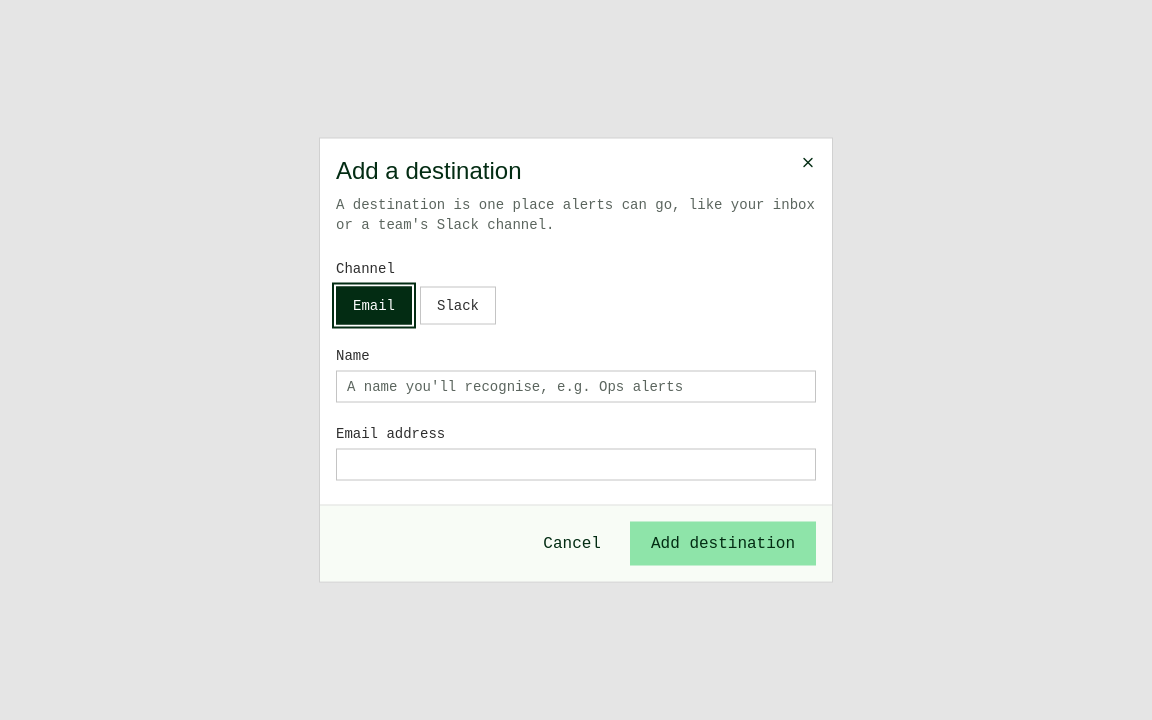
Test: DestinationDialog › shows server issues that belong to no visible field as a form message
Step 1. Type "Inbox" into the field labelled "Name" → (576, 386), box [336,370,816,402]
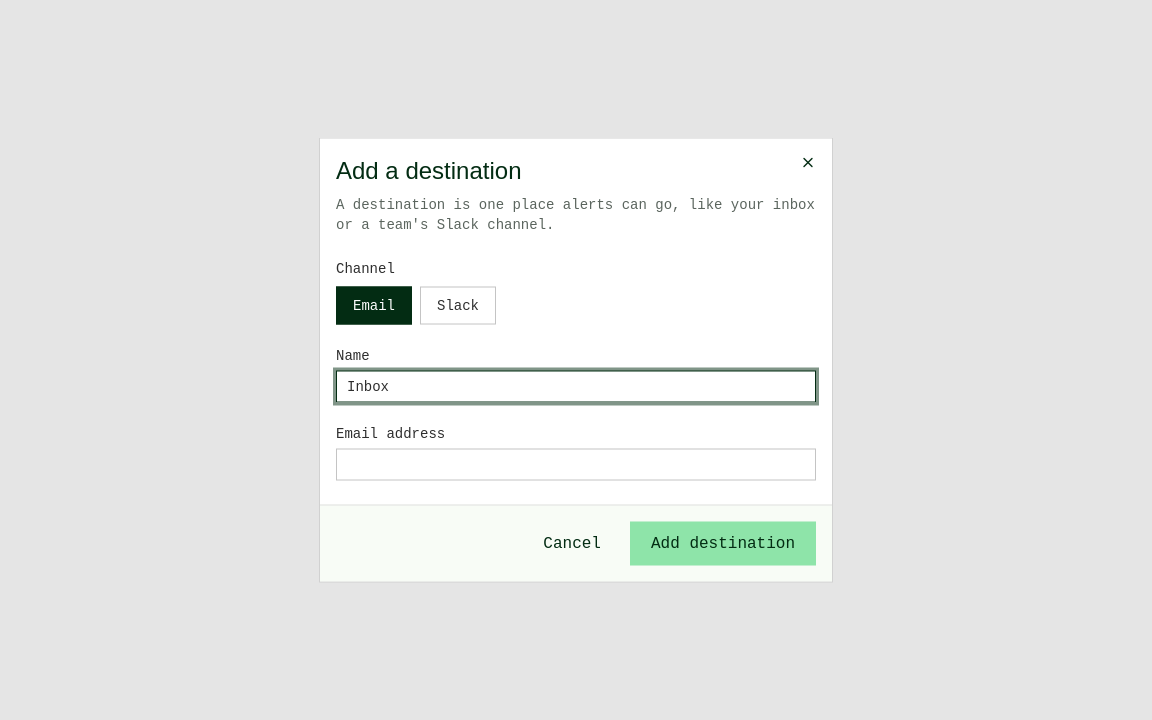
Step 2. Type "me@example.com" into the field labelled "Email address" → (576, 464), box [336,448,816,480]
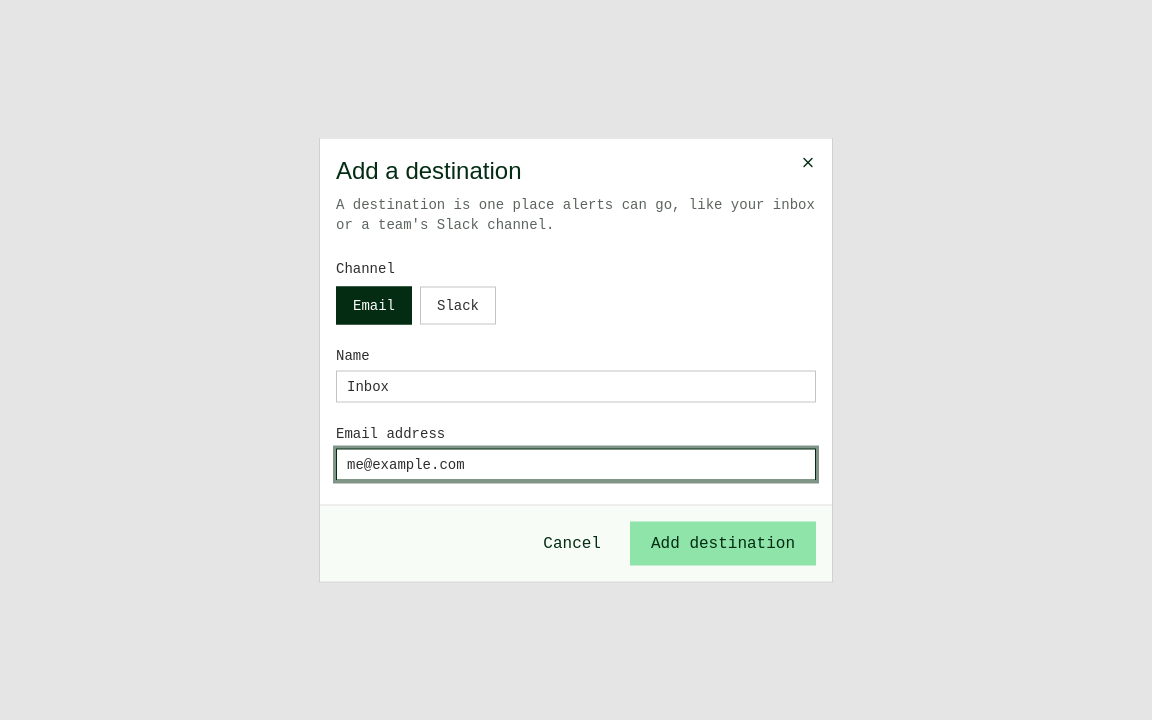
Step 3. Click the button "Add destination" → (723, 544), box [630,522,816,566]
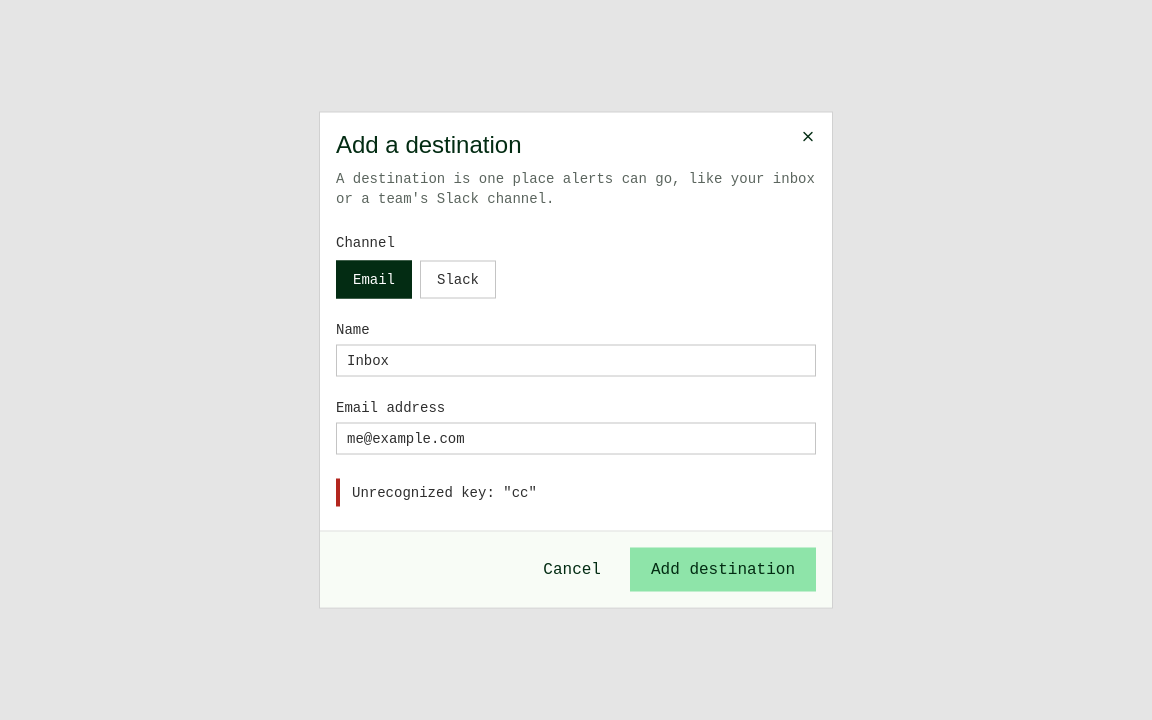
Expected: the message reads "Unrecognized key: \"cc\"", [352,484,537,500]
